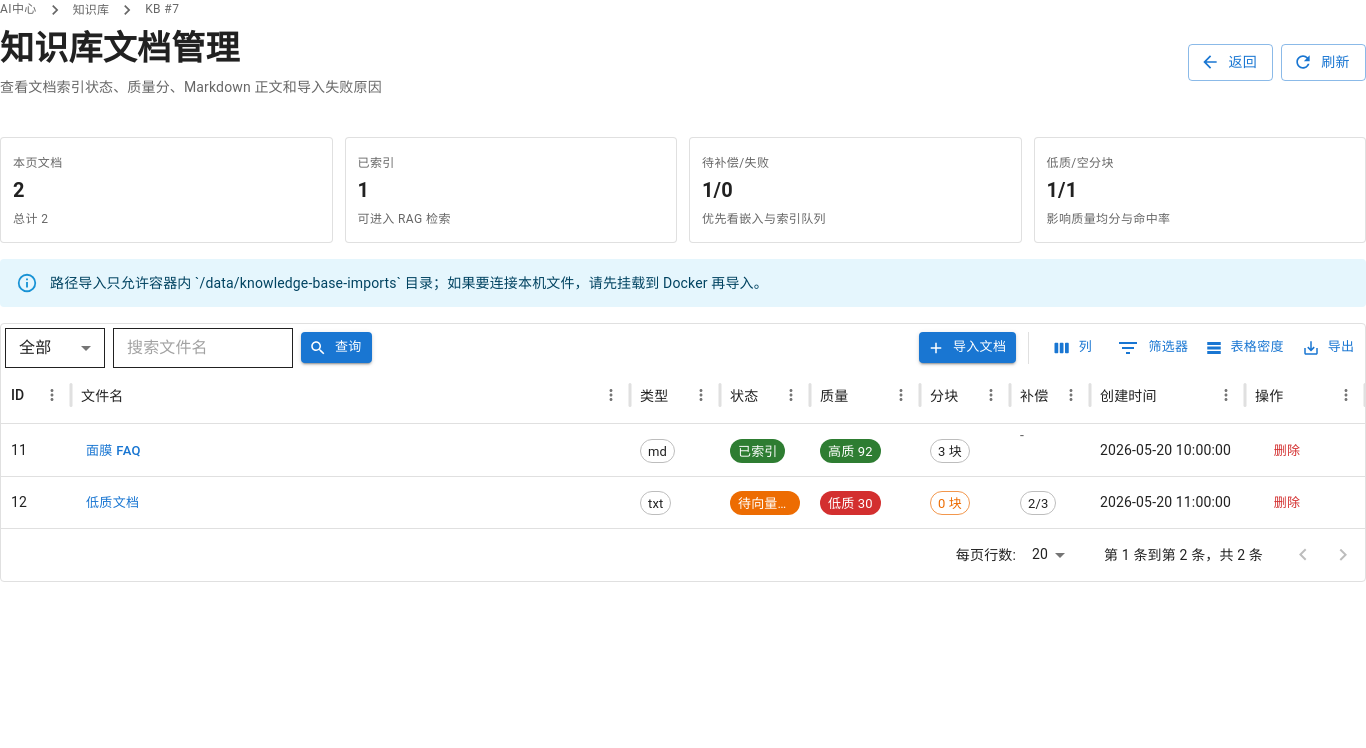
Test: KnowledgeDocumentsPage › renders document diagnostics, markdown preview, and imports with sourcePath
The image size is (1366, 748).
Check: the heading "知识库文档管理" is shown, box [0,28,240,68]
Check: the text "低质/空分块" is shown, box [1046,156,1114,170]
Click the button "导入文档".
click(968, 348)  # box [919,332,1016,363]
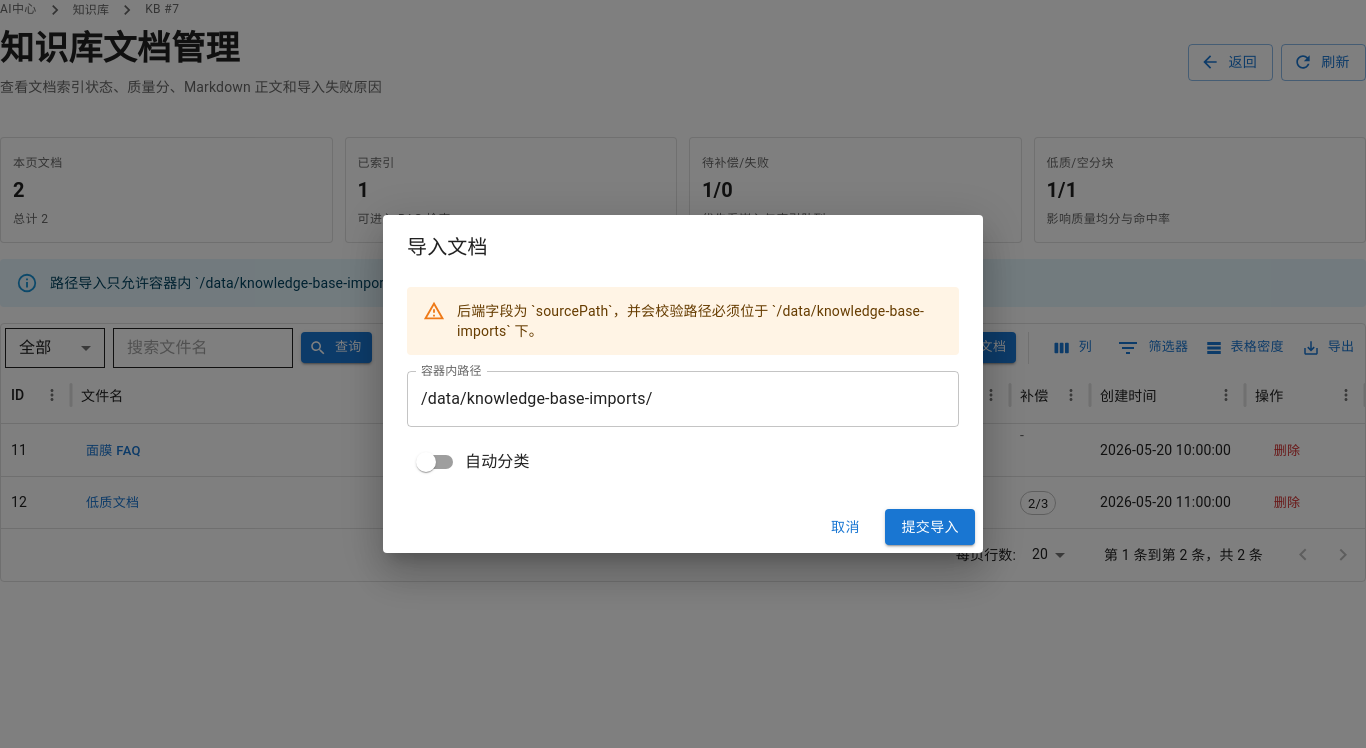
Replace the text in the field labelled "容器内路径" with "/data/knowledge-base-imports/demo.md" at (683, 399), box [407,371,959,427]
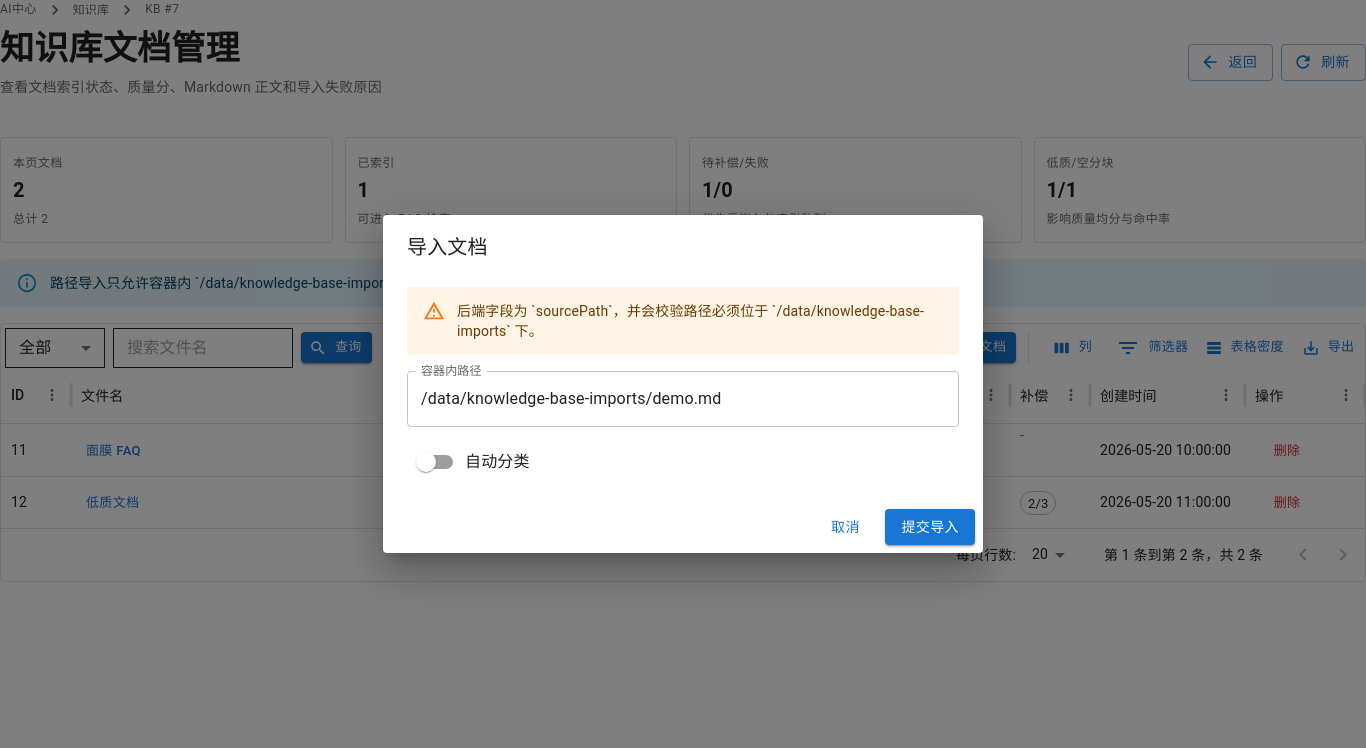
Click the button "提交导入".
click(930, 527)  # box [885,509,975,545]
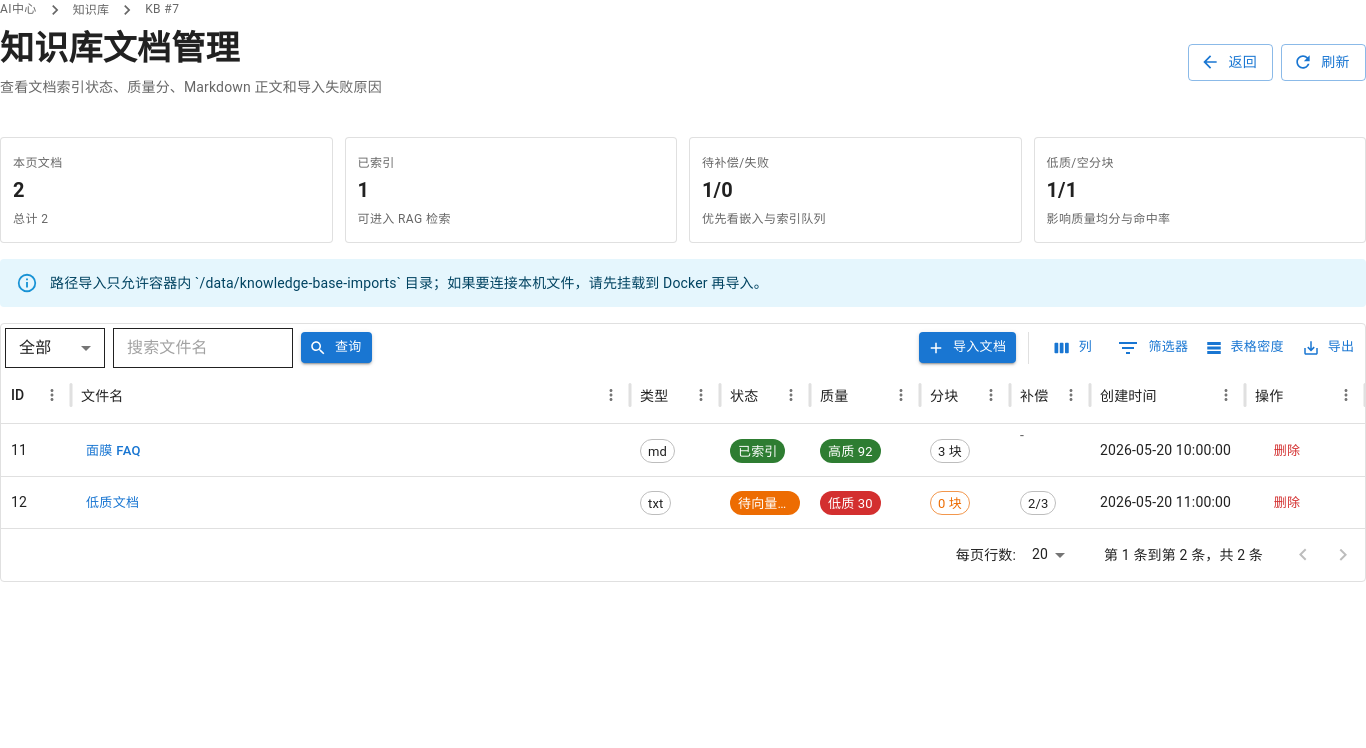
Click the button "低质文档".
click(113, 503)  # box [81,488,145,519]
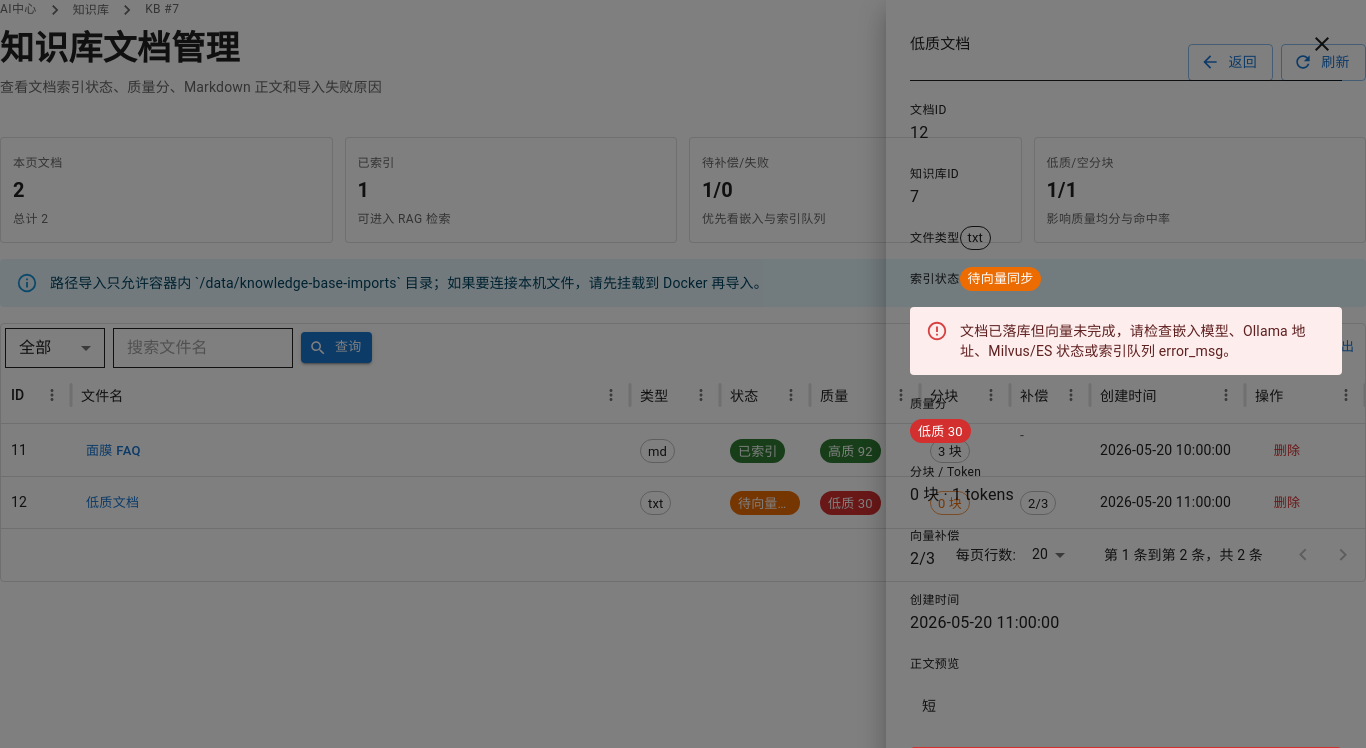
Check: the text "低质 30" below "md" is shown, box [828,496,873,511]
Check: the text "文档已落库但向量未完成，请检查嵌入模型、Ollama 地址、Milvus/ES 状态或索引队列 error_msg。" is shown, box [960,312,1326,368]
